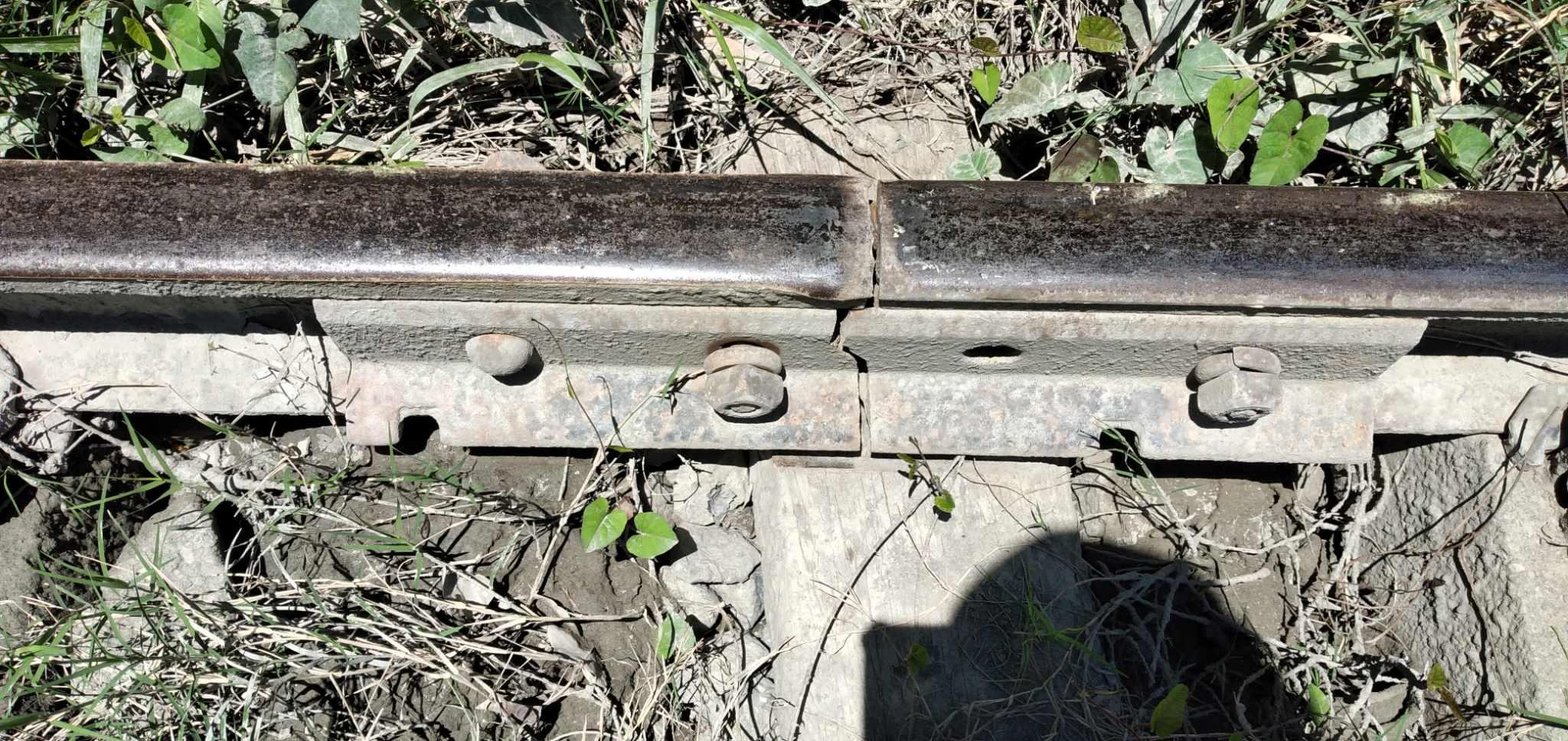railway-gap: (796, 308, 931, 465), (808, 166, 944, 299)
